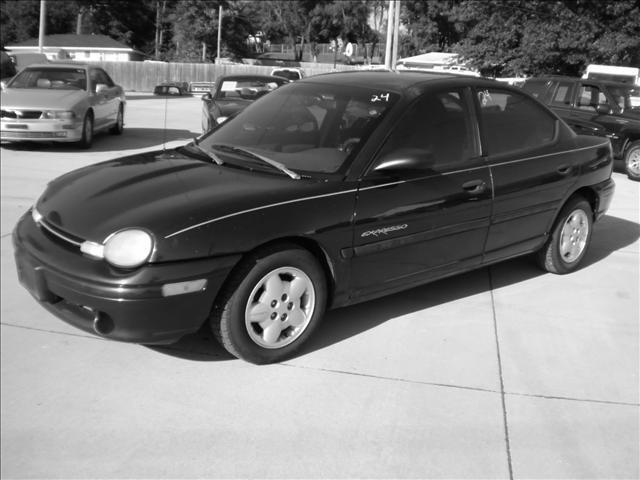car: (9, 72, 618, 366)
